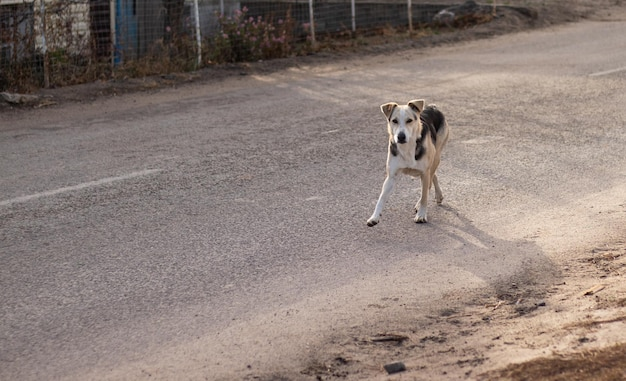Dog: (344, 83, 472, 227)
